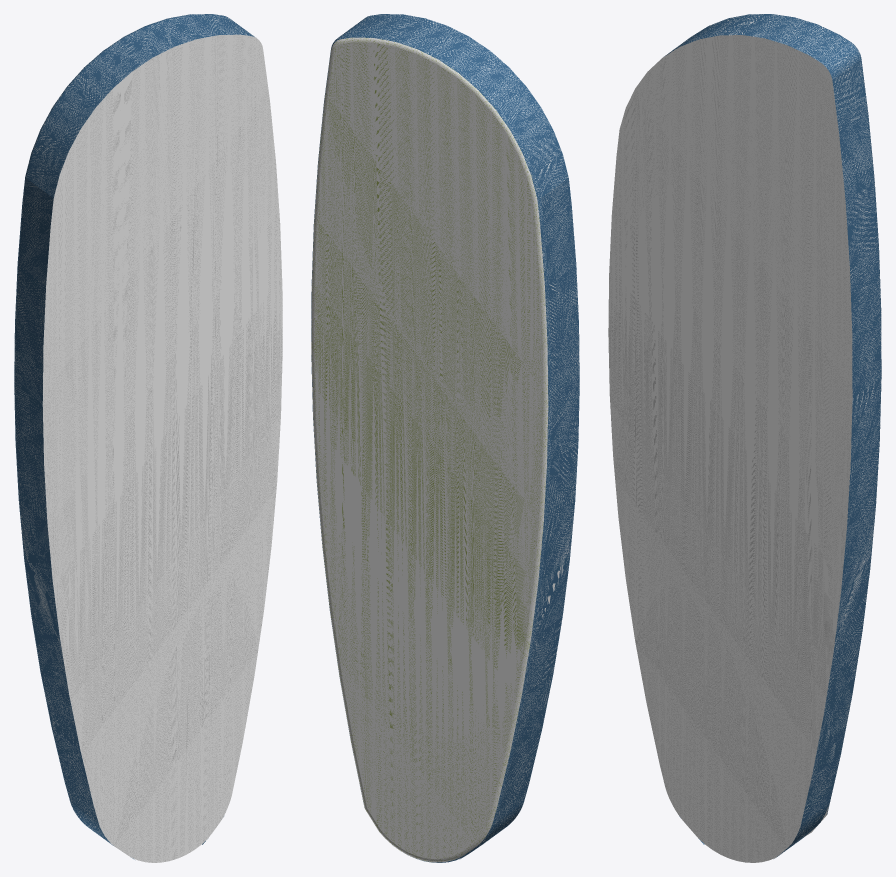
3 views of the same model, side by side, from view 1: azimuth 30°, elevation 25°; view 2: azimuth 150°, elevation 25°; view 3: azimuth 330°, elevation 25° (orthographic).
Visible parts, largest first — view 1: mesh1_mesh1-geometry; view 2: mesh1_mesh1-geometry; view 3: mesh1_mesh1-geometry.
Boxes of the visible parts, bbox=[...] form: mesh1_mesh1-geometry: bbox=[14, 14, 282, 862]; mesh1_mesh1-geometry: bbox=[311, 14, 579, 862]; mesh1_mesh1-geometry: bbox=[608, 14, 881, 862].
Bounding box in the file's own units: 0.2937 × 0.9537 × 0.0653.
